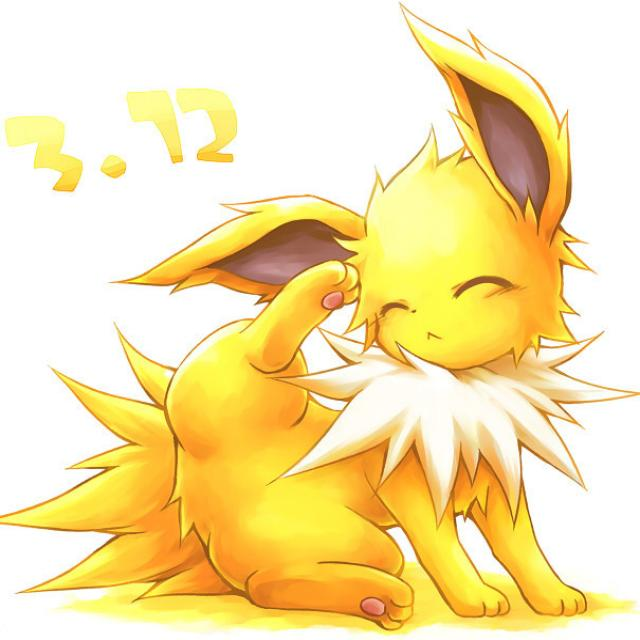Jolteon: (164, 58, 579, 634)
